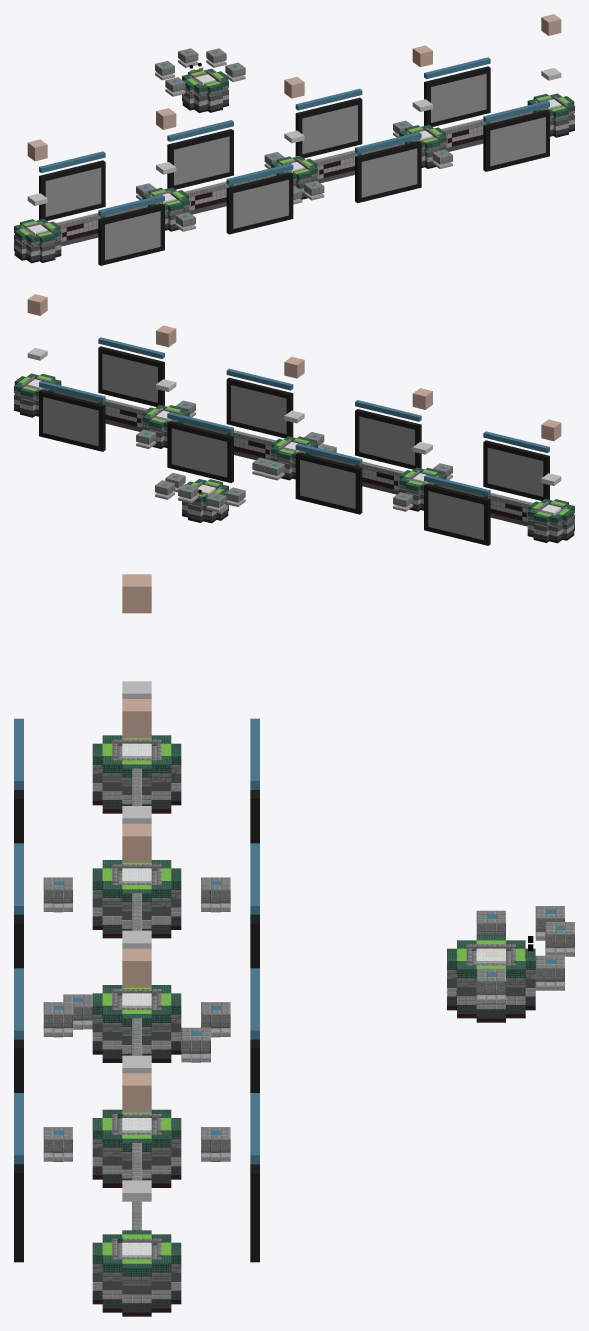
File: minecraft.obj
3 views of the same model, one above another, from view 1: azimuth 30°, elevation 25°; view 2: azimuth 150°, elevation 25°; view 3: azimuth 270°, elevation 25° (orthographic). The views are drawn at different scales.
Size of the model in its own units: 129 by 24.5 by 57.
